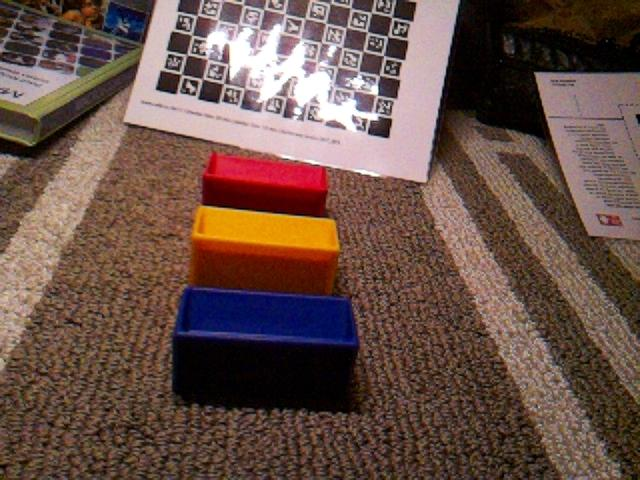blue: (170, 284, 361, 409)
red: (200, 151, 330, 216)
yellow: (188, 204, 342, 295)
